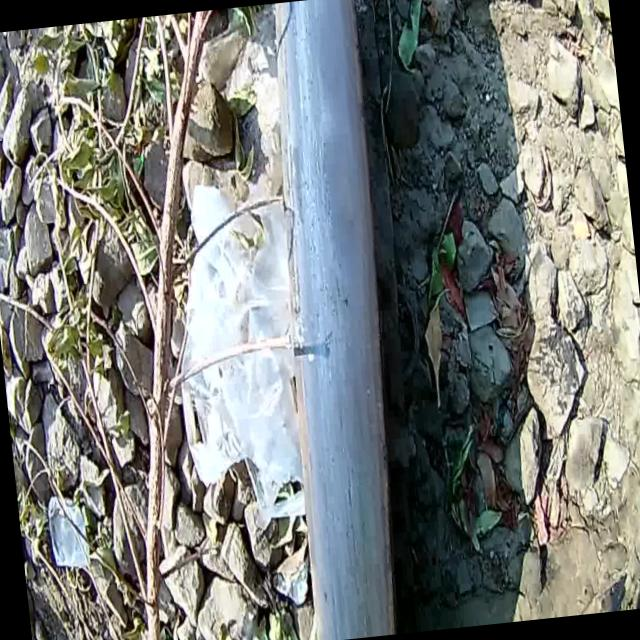Squats: (227, 0, 442, 640)
